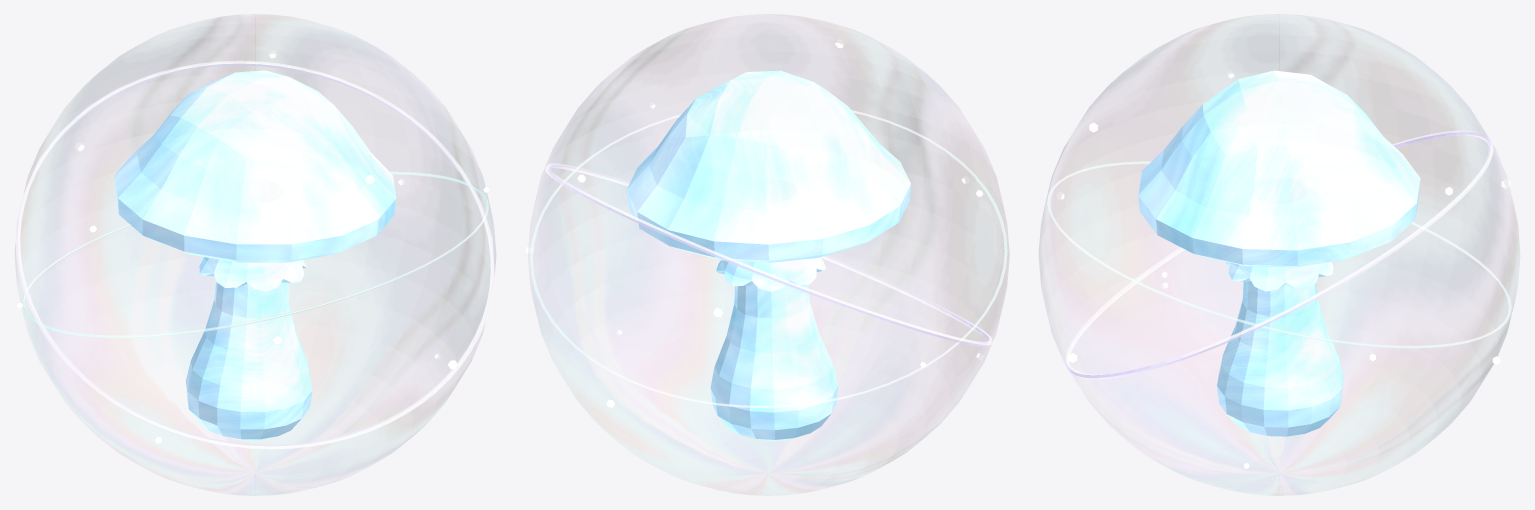
Rendered from snow64-frost-shroom.glb.
3 views of the same model, side by side, from view 1: azimuth 30°, elevation 25°; view 2: azimuth 150°, elevation 25°; view 3: azimuth 270°, elevation 25° (orthographic).
Visible parts, largest first — view 1: FrostHolographicGlassOrb, FrostyShroom, HoloReflectionRibbon_0, HoloReflectionRibbon_1, IcyHoloPinpricks; view 2: FrostHolographicGlassOrb, FrostyShroom, HoloReflectionRibbon_0, HoloReflectionRibbon_1, IcyHoloPinpricks; view 3: FrostHolographicGlassOrb, FrostyShroom, HoloReflectionRibbon_0, HoloReflectionRibbon_1, IcyHoloPinpricks.
Boxes of the visible parts, x1,y1,x2,y2 form: FrostHolographicGlassOrb: (15, 14, 495, 495); FrostyShroom: (114, 70, 396, 440); HoloReflectionRibbon_0: (15, 60, 495, 449); HoloReflectionRibbon_1: (22, 171, 488, 338); IcyHoloPinpricks: (17, 50, 489, 443); FrostHolographicGlassOrb: (530, 14, 1008, 495); FrostyShroom: (626, 70, 910, 441); HoloReflectionRibbon_0: (544, 163, 992, 346); HoloReflectionRibbon_1: (530, 110, 1007, 407); IcyHoloPinpricks: (525, 39, 983, 407); FrostHolographicGlassOrb: (1039, 14, 1519, 495); FrostyShroom: (1138, 70, 1420, 436); HoloReflectionRibbon_0: (1065, 130, 1493, 379); HoloReflectionRibbon_1: (1047, 161, 1511, 348); IcyHoloPinpricks: (1056, 71, 1510, 468).
Size of the model in its own units: 2.24 by 2.24 by 2.24.
5 materials, 2 textured.
